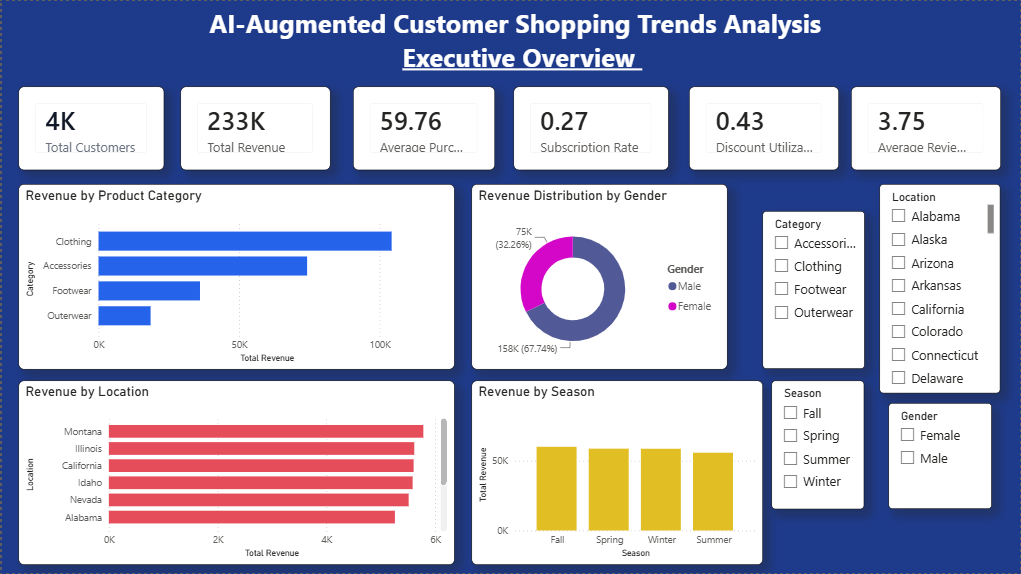

The page's visual inventory and layout, read from the dashboard file:
{"tool":"powerbi","page":{"name":"Executive Overview","canvas":[1280,720],"ordinal":0},"visuals":[{"type":"cardVisual","fields":{"Data":["shopping_trends_updated.Total Revenue"]},"box":[225,106.7,188.3,105],"z":0},{"type":"cardVisual","fields":{"Data":["shopping_trends_updated.Total Customers"]},"box":[21.7,106.7,183.3,105],"z":1000},{"type":"cardVisual","fields":{"Data":["shopping_trends_updated.Average Purchase Amount"]},"box":[441.7,106.7,178.3,105],"z":2000},{"type":"cardVisual","fields":{"Data":["shopping_trends_updated.Average Review Rating"]},"box":[1068.3,106.7,188.3,105],"z":3000},{"type":"cardVisual","fields":{"Data":["shopping_trends_updated.Subscription Rate"]},"box":[643.3,106.7,195,105],"z":4000},{"type":"cardVisual","fields":{"Data":["shopping_trends_updated.Discount Utilization Rate"]},"box":[863.3,106.7,188.3,105],"z":5000},{"type":"clusteredBarChart","title":"Revenue by Product Category","fields":{"Category":["shopping_trends_updated.Category"],"Y":["shopping_trends_updated.Total Revenue"]},"box":[21.7,230,548.3,233.3],"z":6000},{"type":"donutChart","title":"Revenue Distribution by Gender","fields":{"Category":["shopping_trends_updated.Gender"],"Y":["shopping_trends_updated.Total Revenue"]},"box":[590,230,321.7,233.3],"z":7000},{"type":"clusteredColumnChart","title":"Revenue by Season","fields":{"Category":["shopping_trends_updated.Season"],"Y":["shopping_trends_updated.Total Revenue"]},"box":[590,476.7,366.7,231.7],"z":8000},{"type":"barChart","title":"Revenue by Location","fields":{"Category":["shopping_trends_updated.Location"],"Y":["shopping_trends_updated.Total Revenue"]},"box":[21.7,476.7,548.3,231.7],"z":9000},{"type":"slicer","fields":{"Values":["shopping_trends_updated.Location"]},"box":[1103.3,230,151.7,263.3],"z":10000},{"type":"slicer","fields":{"Values":["shopping_trends_updated.Season"]},"box":[968.3,476.7,116.7,161.7],"z":11000},{"type":"slicer","fields":{"Values":["shopping_trends_updated.Gender"]},"box":[1115,505,130,133.3],"z":12000},{"type":"slicer","fields":{"Values":["shopping_trends_updated.Category"]},"box":[956.7,265,128.3,198.3],"z":13000},{"type":"textbox","box":[53.3,0,1203.3,103.3],"z":14000}]}

Visuals, with their boxes in screenshot pixels (x1, y1, x2, y2), scaled from the page's 1280x720 canvas onto the 1021x574 screenshot:
cardVisual - shopping_trends_updated.Total Revenue: 179 85 330 169
cardVisual - shopping_trends_updated.Total Customers: 17 85 164 169
cardVisual - shopping_trends_updated.Average Purchase Amount: 352 85 495 169
cardVisual - shopping_trends_updated.Average Review Rating: 852 85 1002 169
cardVisual - shopping_trends_updated.Subscription Rate: 513 85 669 169
cardVisual - shopping_trends_updated.Discount Utilization Rate: 689 85 839 169
"Revenue by Product Category" clusteredBarChart: 17 183 455 369
"Revenue Distribution by Gender" donutChart: 471 183 727 369
"Revenue by Season" clusteredColumnChart: 471 380 763 565
"Revenue by Location" barChart: 17 380 455 565
slicer - shopping_trends_updated.Location: 880 183 1001 393
slicer - shopping_trends_updated.Season: 772 380 865 509
slicer - shopping_trends_updated.Gender: 889 403 993 509
slicer - shopping_trends_updated.Category: 763 211 865 369
textbox: 43 0 1002 82
